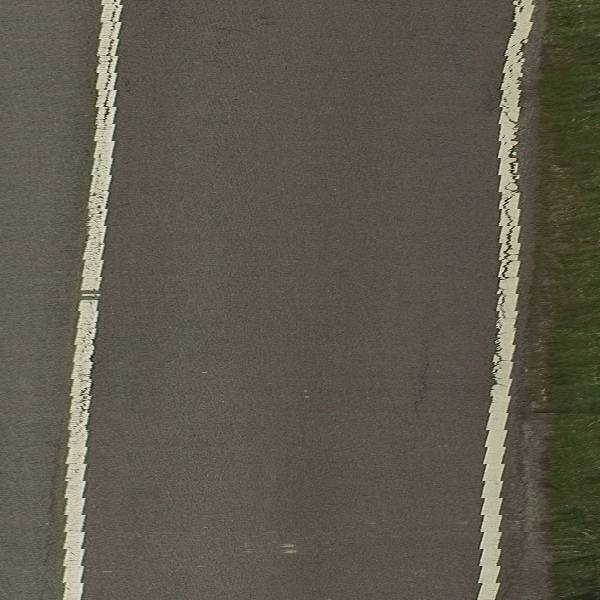road_damage: (404, 356, 439, 426)
